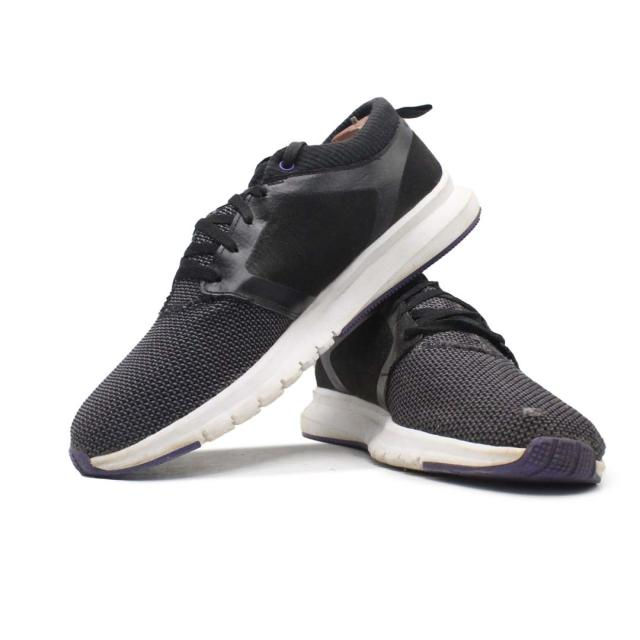heel: (357, 95, 444, 210)
midsole: (64, 166, 482, 482), (302, 384, 598, 484)
uppersole: (66, 138, 411, 461), (324, 272, 602, 454)
